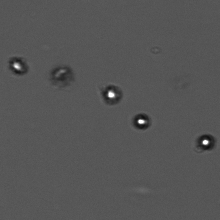Dead Cell: (47, 64, 76, 89)
Living Cell: (5, 54, 32, 77), (191, 131, 216, 155), (130, 109, 154, 133), (98, 84, 125, 105)
